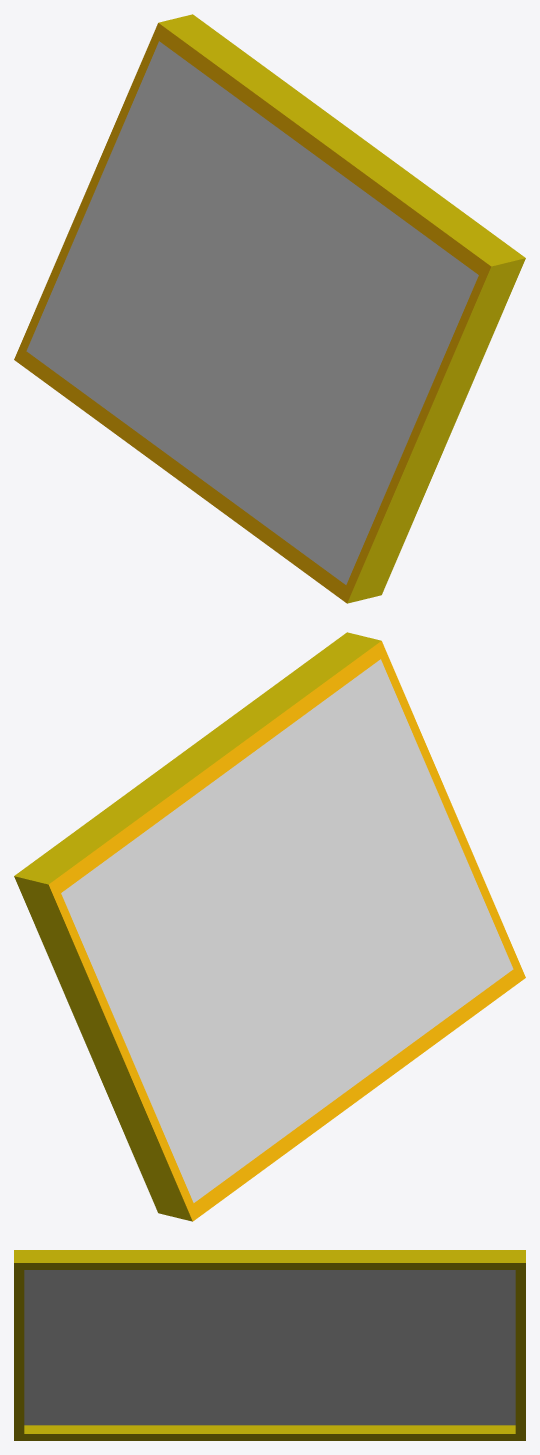
File: window_slanted_4x1x2.dae
3 renders of one model, top to bottom at view 1: azimuth 30°, elevation 25°; view 2: azimuth 150°, elevation 25°; view 3: azimuth 270°, elevation 25°, orthographic. The views are drawn at different scales.
Visible parts, largest first — view 1: Cube; view 2: Cube; view 3: Cube.
Part boxes in pixels (x1,y1,x2,y2): Cube: (14, 14, 525, 603); Cube: (14, 632, 525, 1221); Cube: (14, 1250, 525, 1440).
Bounding box in the file's own units: 0.31 × 1 × 0.5.
